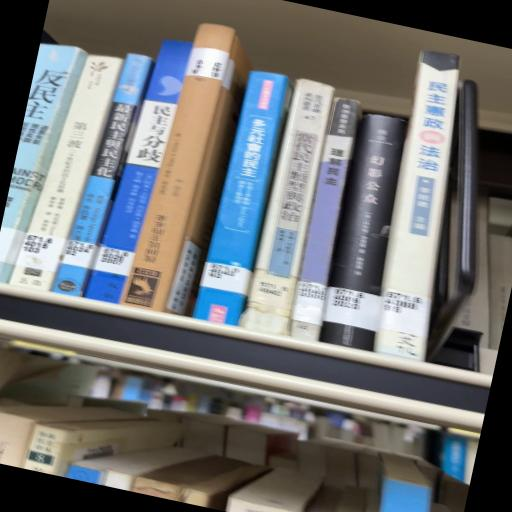book: (85, 41, 192, 305), (374, 51, 459, 362), (193, 71, 292, 325), (53, 54, 153, 297), (240, 80, 334, 335), (320, 115, 407, 352)
reverse: (121, 24, 235, 312)
